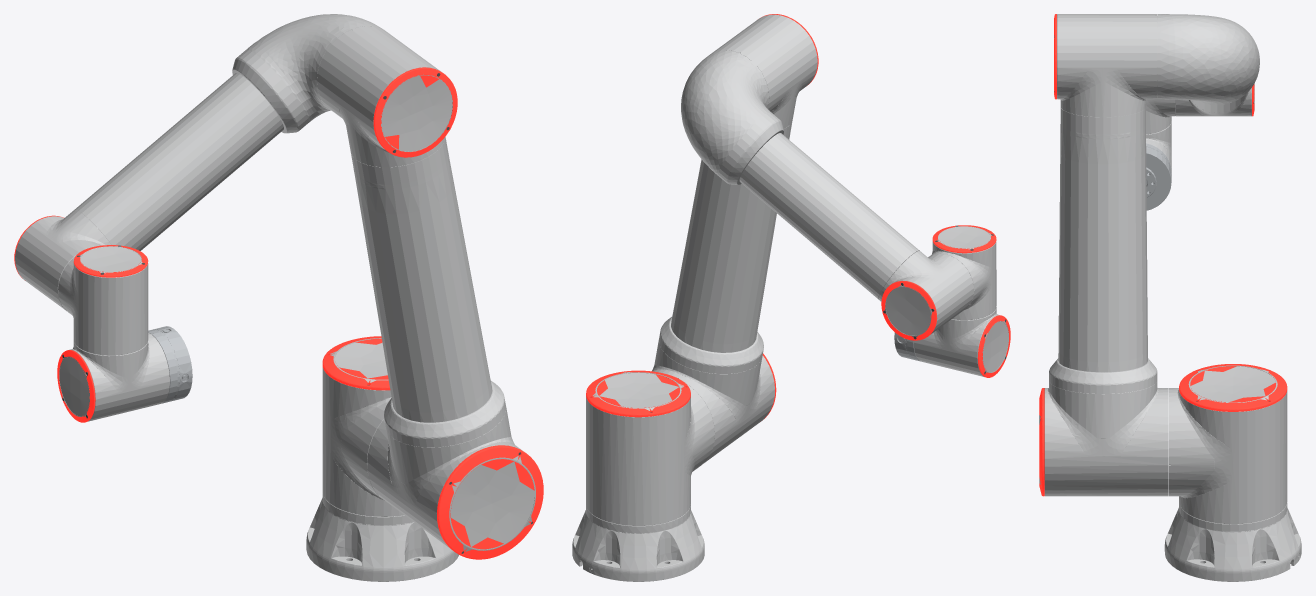
3 views of the same model, side by side, from view 1: azimuth 30°, elevation 25°; view 2: azimuth 150°, elevation 25°; view 3: azimuth 270°, elevation 25° (orthographic). The views are drawn at different scales.
Visible parts, largest first — view 1: Link_2_UpperArm_fr5_white_gloss, Link_3_Forearm_fr5_white_gloss, Link_1_Shoulder_fr5_white_gloss, Link_0_Base_fr5_white_gloss, Link_4_Wrist1_fr5_white_gloss, Link_2_UpperArm_fr5_led_ring, Link_5_Wrist2_fr5_white_gloss, Link_6_Flange_fr5_flange_alu, Link_1_Shoulder_fr5_led_ring, Link_5_Wrist2_fr5_led_ring, Link_4_Wrist1_fr5_led_ring; view 2: Link_2_UpperArm_fr5_white_gloss, Link_3_Forearm_fr5_white_gloss, Link_1_Shoulder_fr5_white_gloss, Link_0_Base_fr5_white_gloss, Link_5_Wrist2_fr5_white_gloss, Link_4_Wrist1_fr5_white_gloss, Link_1_Shoulder_fr5_led_ring, Link_3_Forearm_fr5_led_ring, Link_5_Wrist2_fr5_led_ring, Link_4_Wrist1_fr5_led_ring; view 3: Link_2_UpperArm_fr5_white_gloss, Link_1_Shoulder_fr5_white_gloss, Link_3_Forearm_fr5_white_gloss, Link_0_Base_fr5_white_gloss, Link_1_Shoulder_fr5_led_ring, Link_6_Flange_fr5_flange_alu, Link_4_Wrist1_fr5_white_gloss, Link_2_UpperArm_fr5_led_ring, Link_5_Wrist2_fr5_white_gloss.
Boxes of the visible parts, bbox=[...] form: Link_2_UpperArm_fr5_white_gloss: bbox=[317, 26, 535, 551]; Link_3_Forearm_fr5_white_gloss: bbox=[15, 14, 383, 310]; Link_1_Shoulder_fr5_white_gloss: bbox=[322, 338, 404, 516]; Link_0_Base_fr5_white_gloss: bbox=[306, 493, 458, 581]; Link_4_Wrist1_fr5_white_gloss: bbox=[58, 246, 148, 355]; Link_2_UpperArm_fr5_led_ring: bbox=[373, 67, 543, 559]; Link_5_Wrist2_fr5_white_gloss: bbox=[59, 333, 169, 421]; Link_6_Flange_fr5_flange_alu: bbox=[148, 326, 192, 403]; Link_1_Shoulder_fr5_led_ring: bbox=[322, 336, 390, 390]; Link_5_Wrist2_fr5_led_ring: bbox=[57, 350, 95, 422]; Link_4_Wrist1_fr5_led_ring: bbox=[73, 245, 148, 277]; Link_2_UpperArm_fr5_white_gloss: bbox=[652, 14, 817, 463]; Link_3_Forearm_fr5_white_gloss: bbox=[681, 50, 973, 337]; Link_1_Shoulder_fr5_white_gloss: bbox=[586, 372, 714, 525]; Link_0_Base_fr5_white_gloss: bbox=[572, 504, 704, 581]; Link_5_Wrist2_fr5_white_gloss: bbox=[913, 307, 1008, 376]; Link_4_Wrist1_fr5_white_gloss: bbox=[930, 226, 996, 320]; Link_1_Shoulder_fr5_led_ring: bbox=[586, 370, 690, 417]; Link_3_Forearm_fr5_led_ring: bbox=[881, 281, 937, 340]; Link_5_Wrist2_fr5_led_ring: bbox=[977, 315, 1010, 377]; Link_4_Wrist1_fr5_led_ring: bbox=[932, 225, 996, 253]; Link_2_UpperArm_fr5_white_gloss: bbox=[1039, 14, 1168, 496]; Link_1_Shoulder_fr5_white_gloss: bbox=[1169, 365, 1287, 524]; Link_3_Forearm_fr5_white_gloss: bbox=[1157, 14, 1259, 116]; Link_0_Base_fr5_white_gloss: bbox=[1164, 502, 1301, 581]; Link_1_Shoulder_fr5_led_ring: bbox=[1179, 364, 1287, 411]; Link_6_Flange_fr5_flange_alu: bbox=[1146, 143, 1171, 210]; Link_4_Wrist1_fr5_white_gloss: bbox=[1146, 97, 1175, 134]; Link_2_UpperArm_fr5_led_ring: bbox=[1039, 14, 1056, 496]; Link_5_Wrist2_fr5_white_gloss: bbox=[1146, 122, 1171, 170].
Bounding box in the file's own units: 0.7712 × 0.9794 × 0.46.
